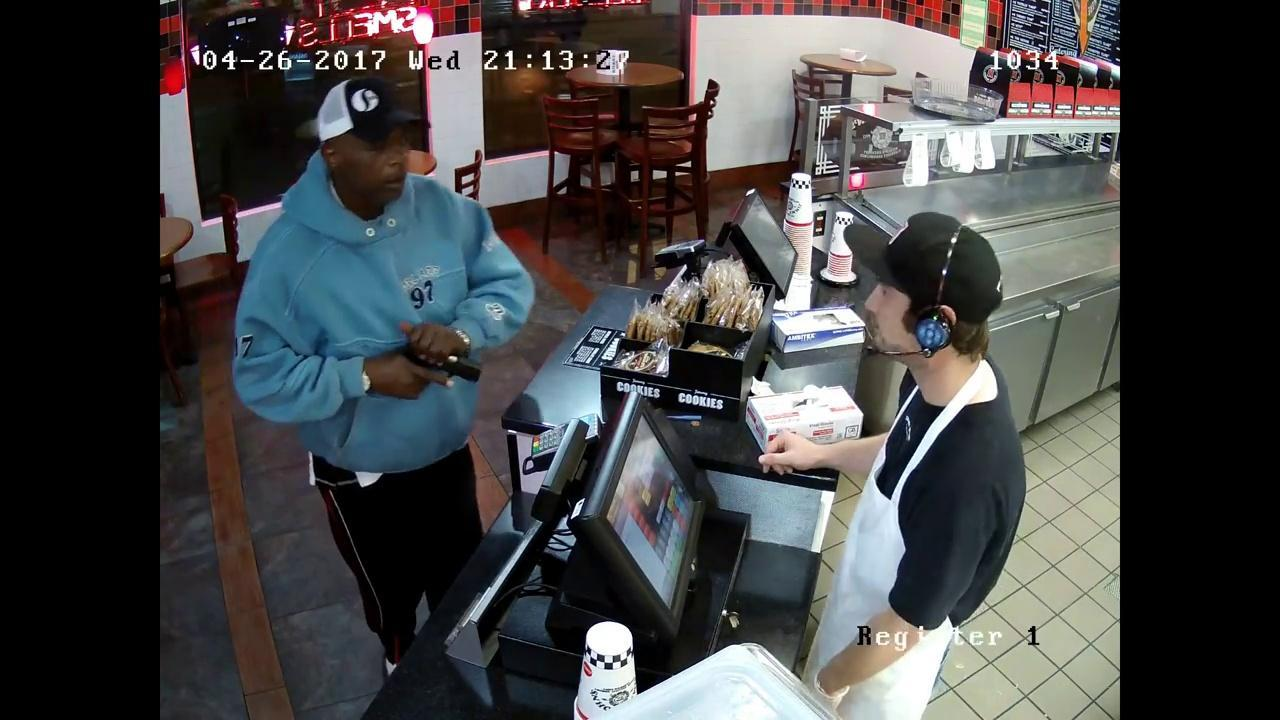Guns: (371, 333, 488, 396)
